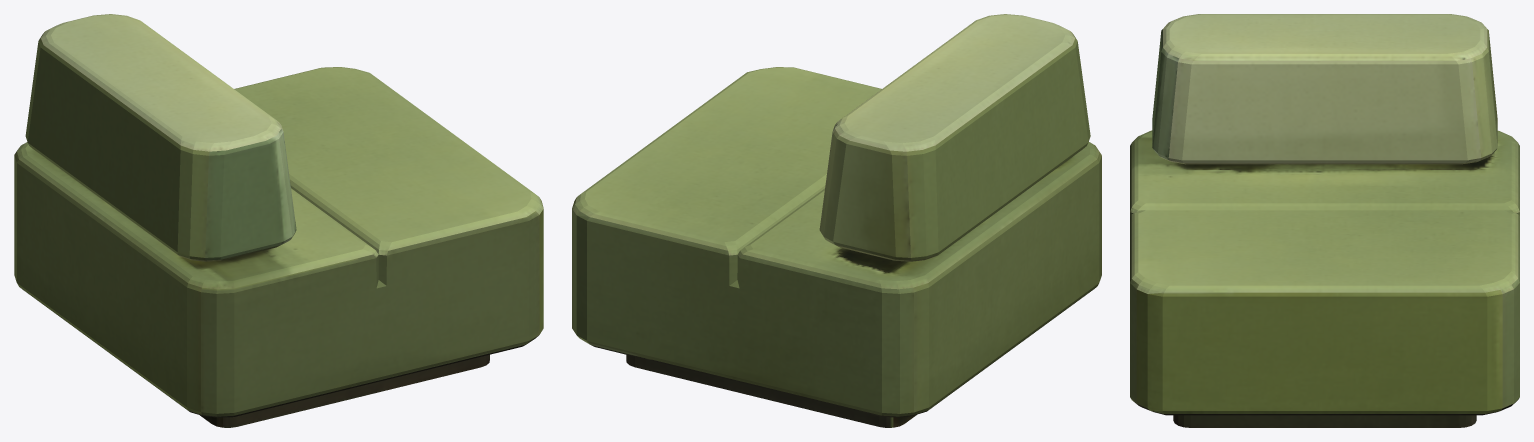
The picture shows the model from 3 angles, left to right: view 1: azimuth 30°, elevation 25°; view 2: azimuth 150°, elevation 25°; view 3: azimuth 270°, elevation 25°; orthographic projection. The views are drawn at different scales.
Visible parts, largest first — view 1: Node; view 2: Node; view 3: Node.
Boxes of the visible parts, left/top/right/bottom form: Node: left=14, top=14, right=543, bottom=427; Node: left=572, top=14, right=1101, bottom=427; Node: left=1130, top=14, right=1519, bottom=427.
Size of the model in its own units: 0.7 by 0.5446 by 0.7.
1 material, 1 textured.
